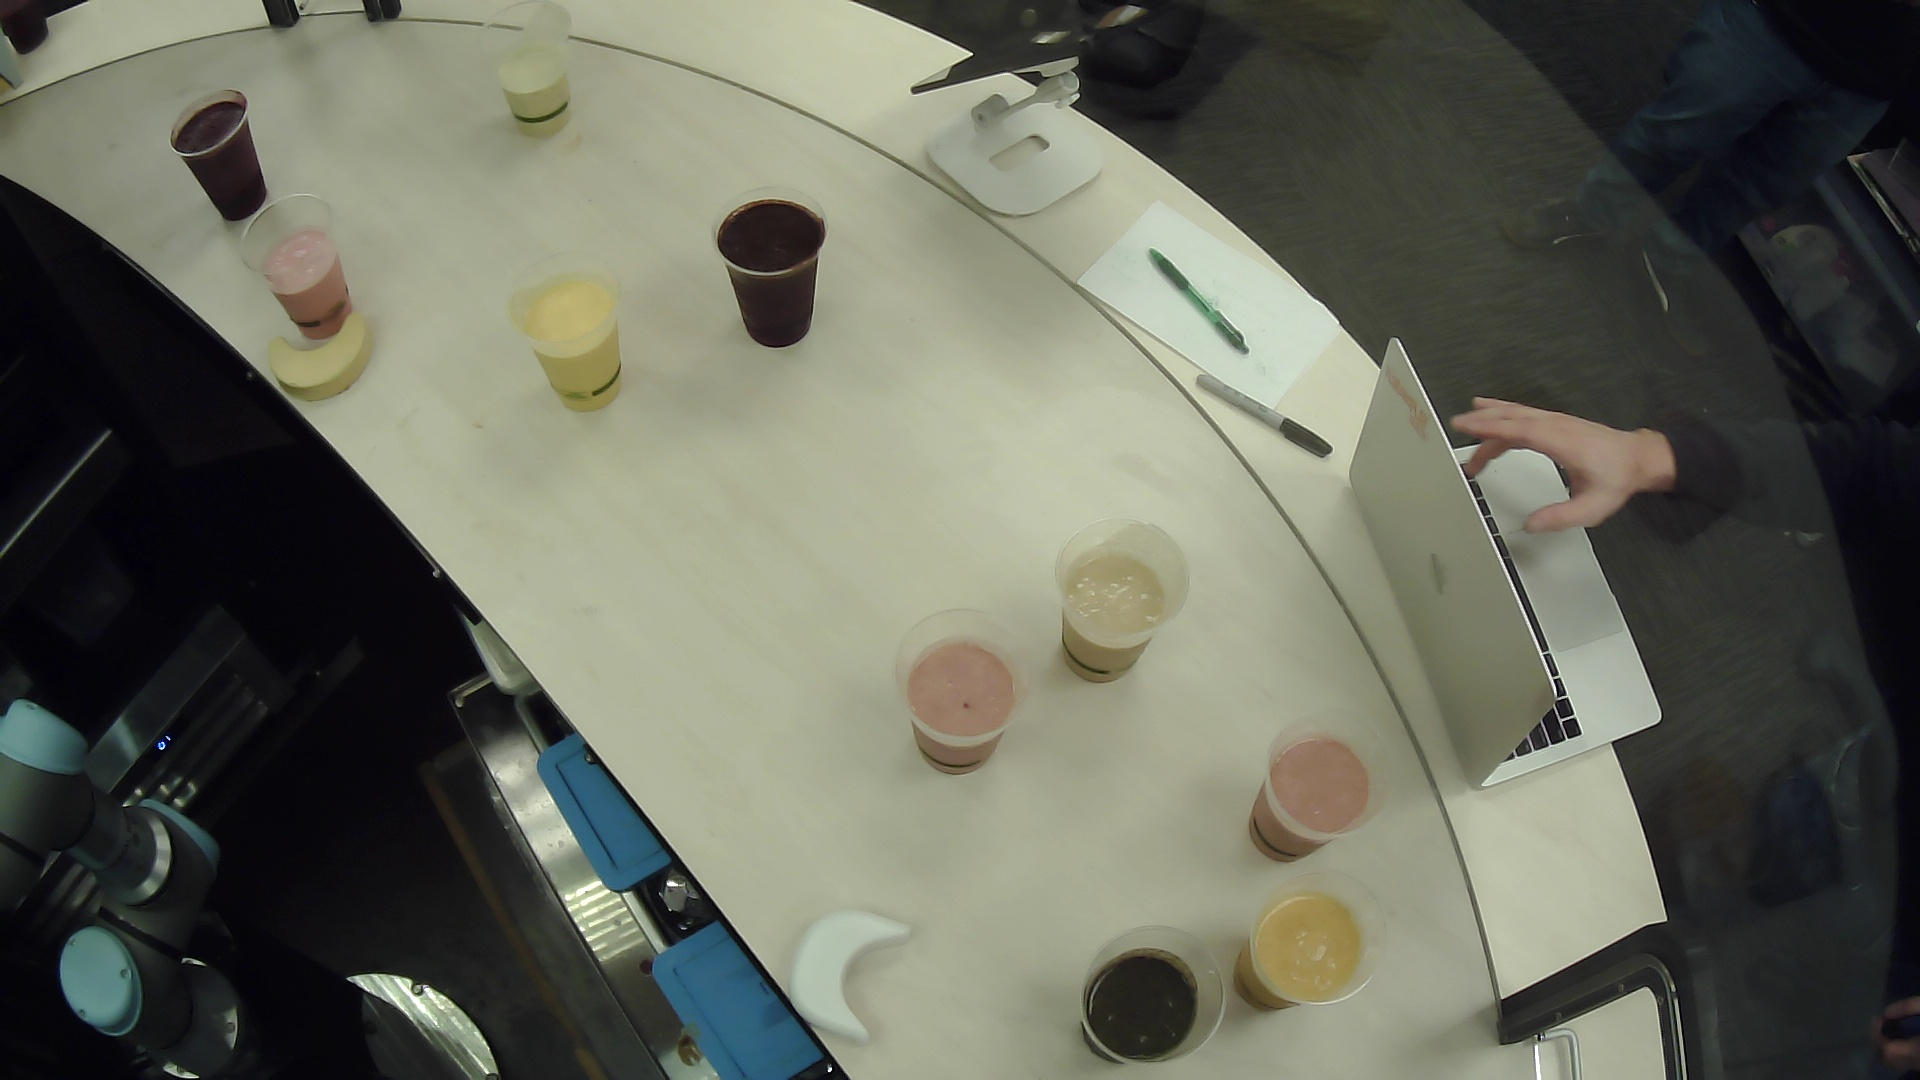Deliver: (766, 891, 939, 1043), (251, 303, 406, 409)
Full_cup: (1025, 505, 1196, 712), (886, 593, 1036, 794), (1054, 909, 1232, 1076), (1226, 703, 1404, 869), (695, 167, 837, 363), (1226, 874, 1390, 1038), (504, 233, 634, 433), (231, 178, 375, 352), (149, 70, 287, 229), (464, 1, 588, 160)
